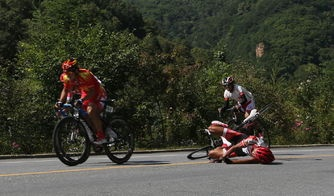falling: (189, 112, 279, 166)
